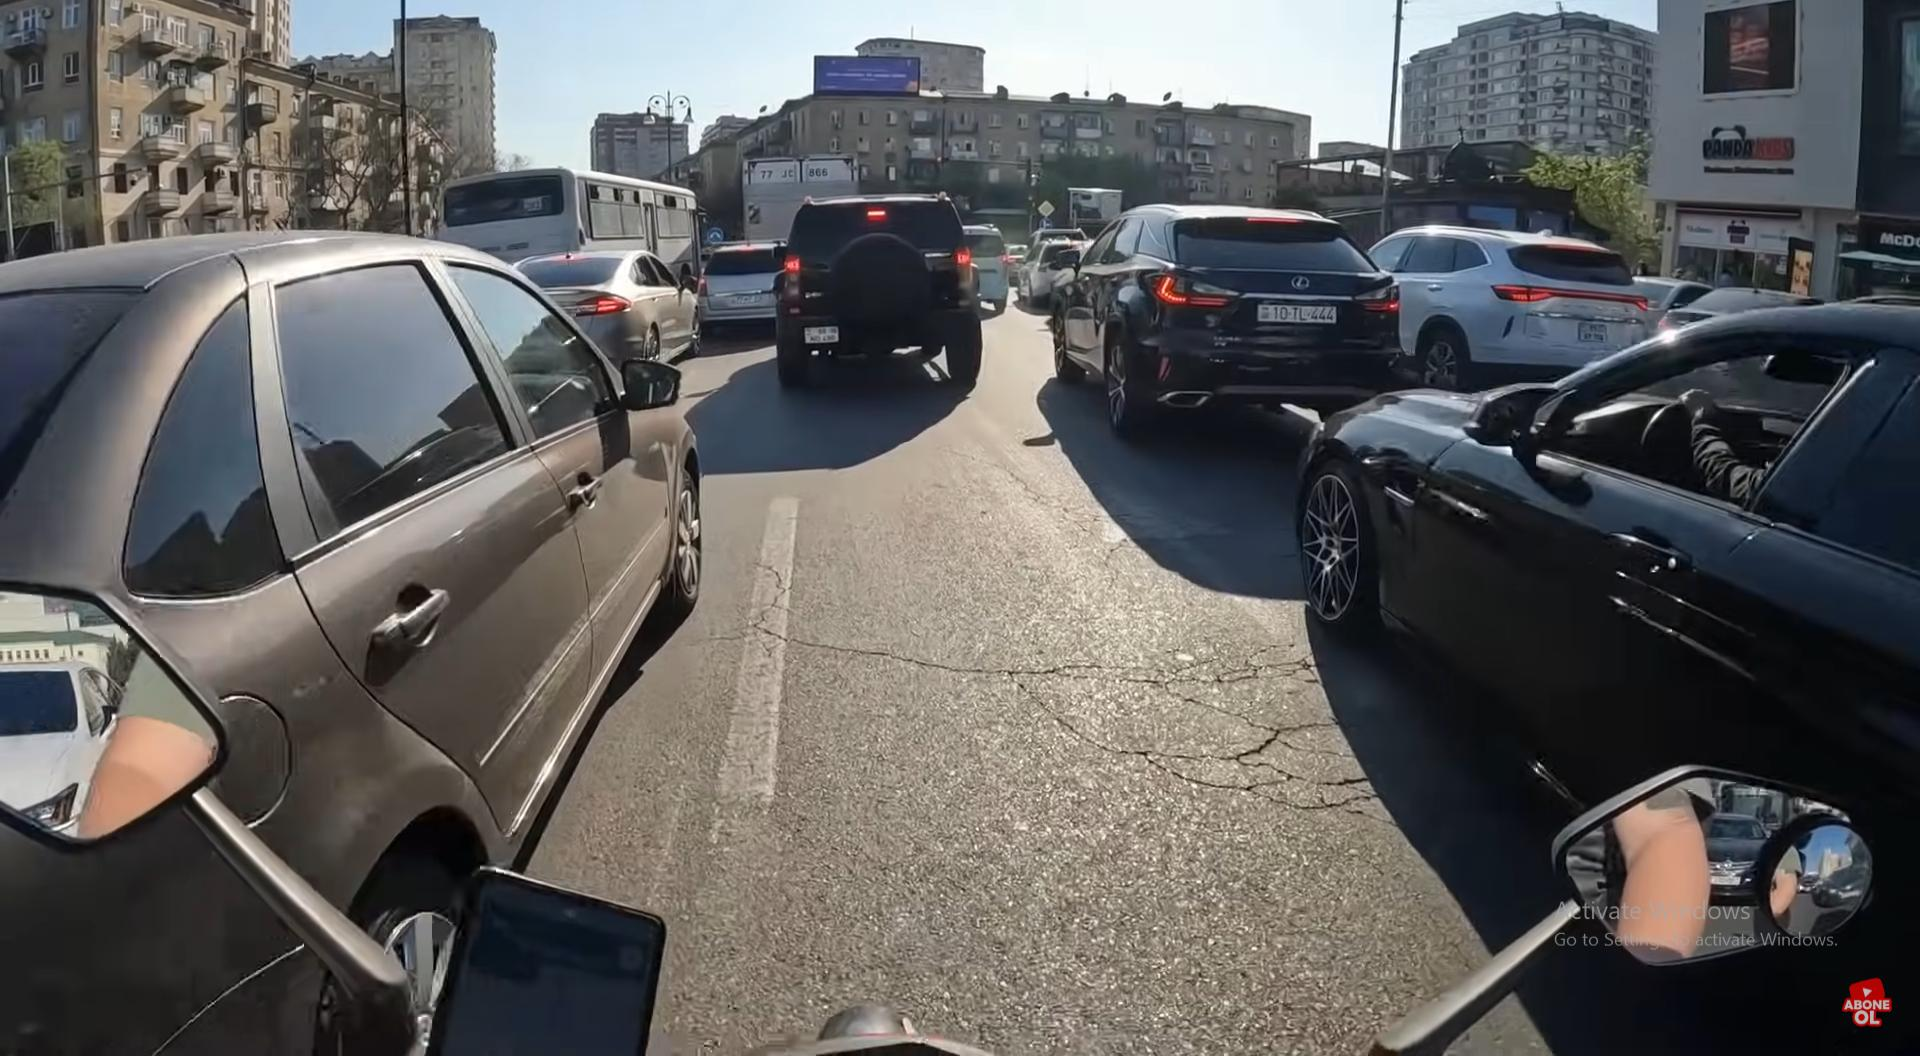banner: (1656, 0, 1858, 207), (816, 50, 930, 100)
